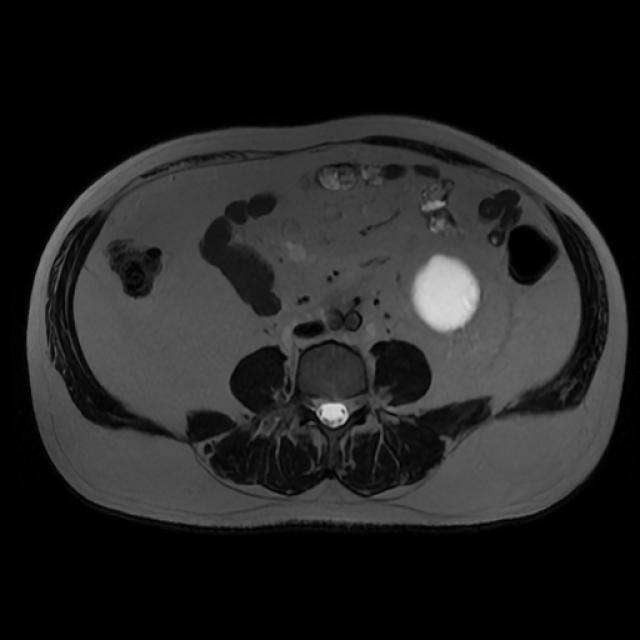sol: (411, 252, 482, 335)
